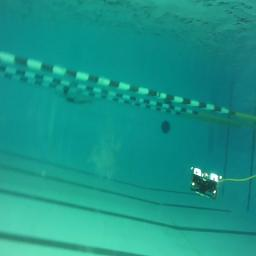front: (189, 165, 223, 201)
